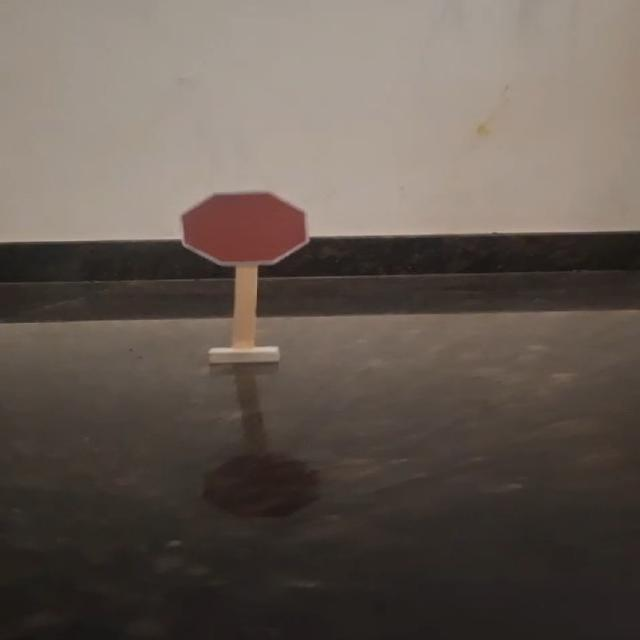Stop: (163, 185, 324, 273)
